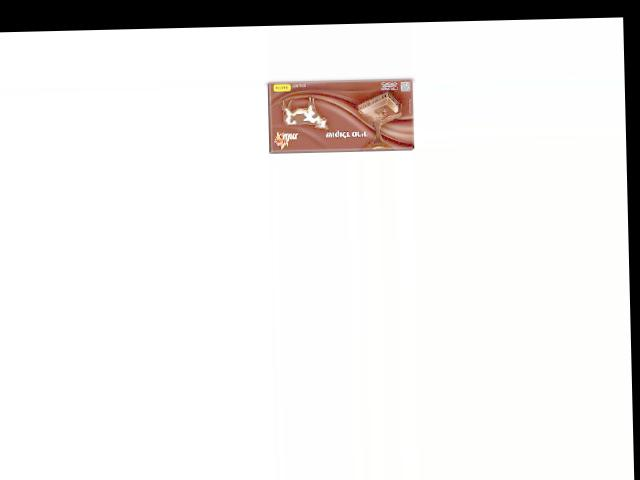chocolate: (264, 77, 412, 154)
